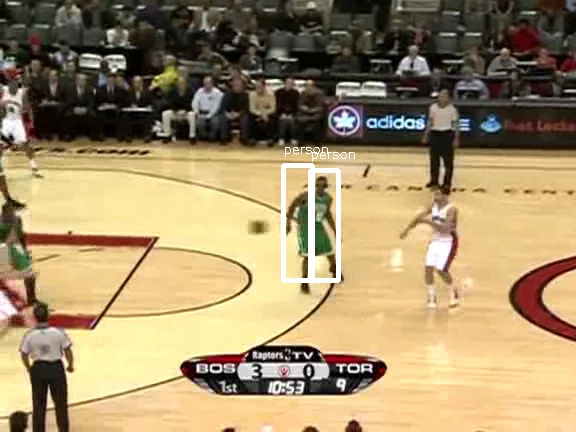person: (299, 183, 333, 264), (298, 183, 332, 264), (300, 183, 334, 264), (299, 182, 333, 263), (299, 184, 333, 265)
target_negative: (379, 381, 526, 411), (179, 341, 486, 348), (336, 334, 532, 341), (490, 197, 498, 364), (555, 181, 562, 319), (541, 392, 562, 411)
